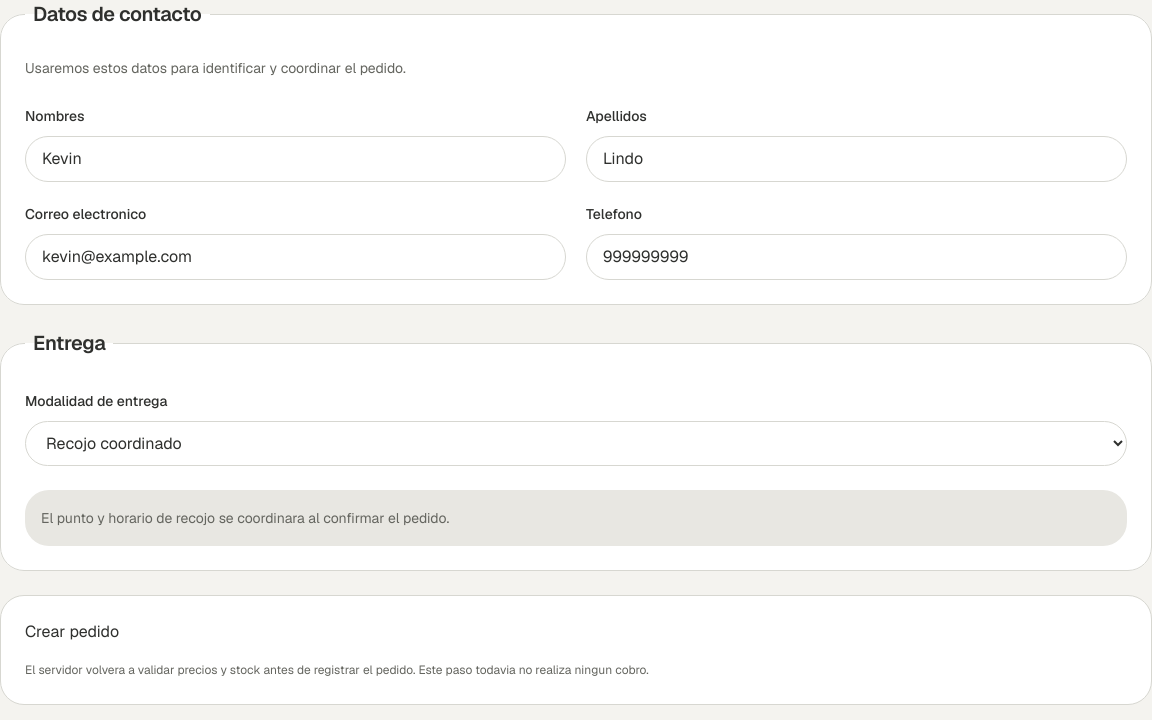
Test case: CheckoutForm › does not clear cart or draft when order creation fails
Select "Recojo coordinado" in the dropdown labelled "Modalidad de entrega" at (576, 444), box x1=25 y1=421 x2=1127 y2=466
Click the button "Crear pedido" at (72, 632), box x1=25 y1=620 x2=119 y2=644
(page scrolled)
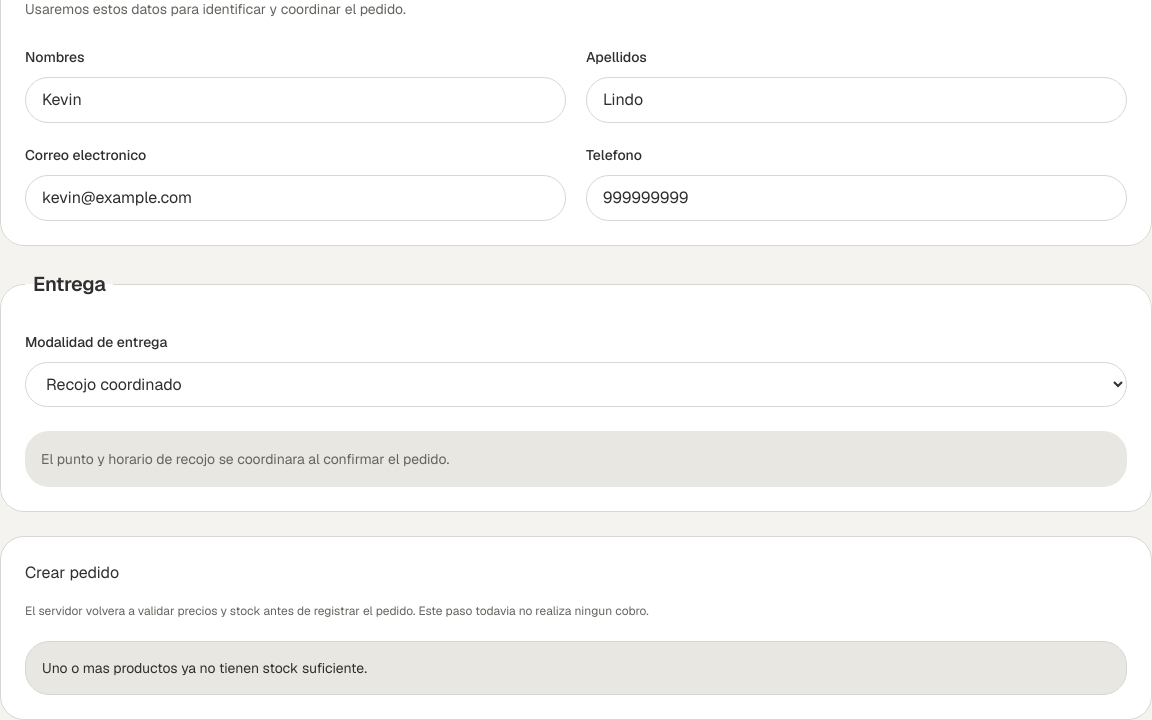
Expected: the message "Uno o mas productos ya no tienen stock suficiente." is shown, x1=25 y1=641 x2=1127 y2=695
Expected: the message shows "stock suficiente", x1=42 y1=659 x2=367 y2=677
